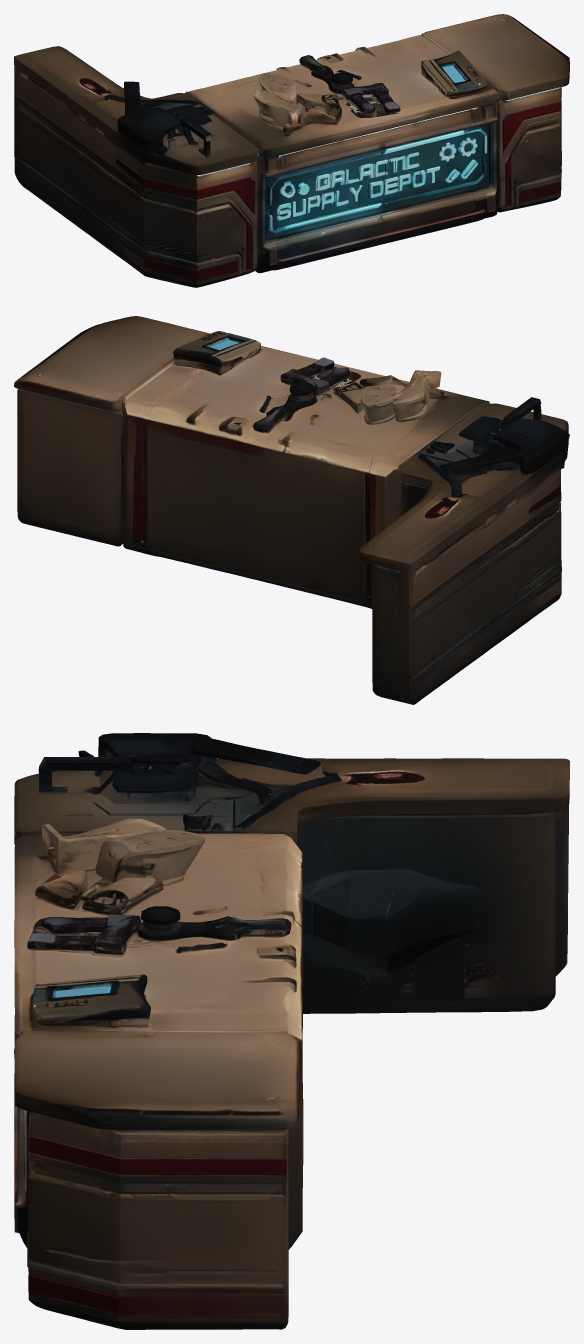
The model's file is lod_basic_pbr.fbx.
The picture shows the model from 3 angles, top to bottom: view 1: azimuth 30°, elevation 25°; view 2: azimuth 150°, elevation 25°; view 3: azimuth 270°, elevation 25°; orthographic projection. The views are drawn at different scales.
Parts seen in each view (by area): view 1: model_LOD0; view 2: model_LOD0; view 3: model_LOD0.
Boxes of the visible parts, <box> form: model_LOD0: <box>14,14,569,287</box>; model_LOD0: <box>14,316,569,704</box>; model_LOD0: <box>14,733,569,1329</box>.
Size of what is drawn, in the model's own units: 190 by 65.79 by 125.
1 material, 1 textured.
